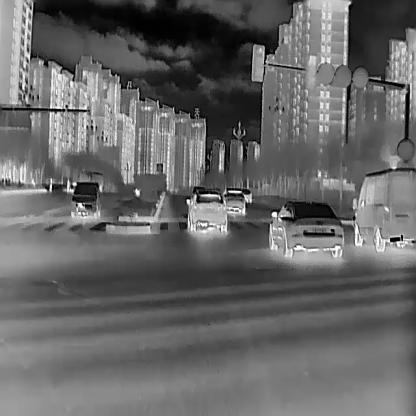car: (350, 167, 416, 252), (265, 198, 345, 258), (184, 188, 228, 233), (70, 181, 102, 217), (222, 187, 246, 214), (240, 187, 251, 203)
